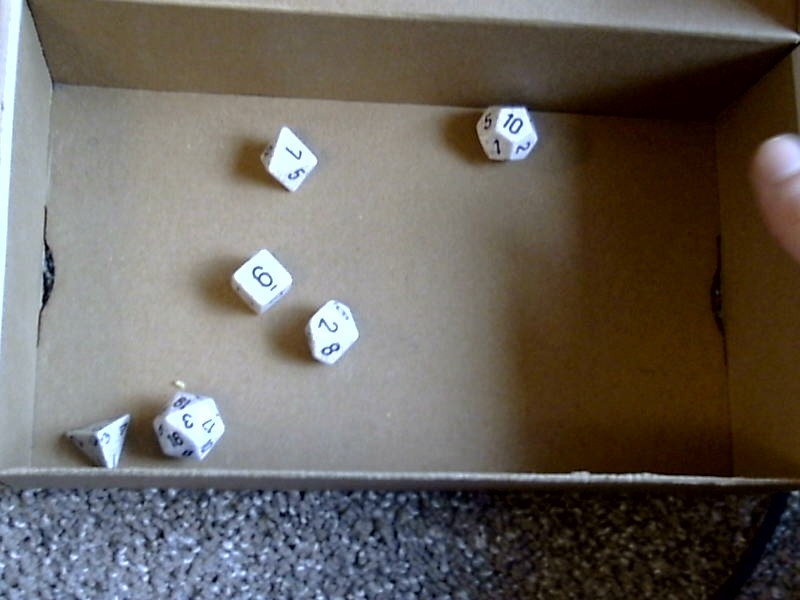d10 2: (299, 294, 359, 374)
d12 10: (469, 97, 546, 179)
d20 3: (150, 381, 229, 468)
d4 3: (51, 405, 136, 474)
d6 6: (225, 244, 293, 315)
d8 7: (252, 119, 327, 198)
